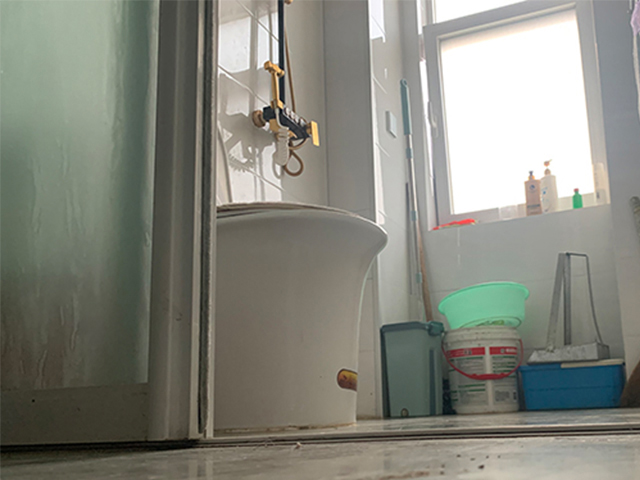closestool: (215, 127, 388, 431)
